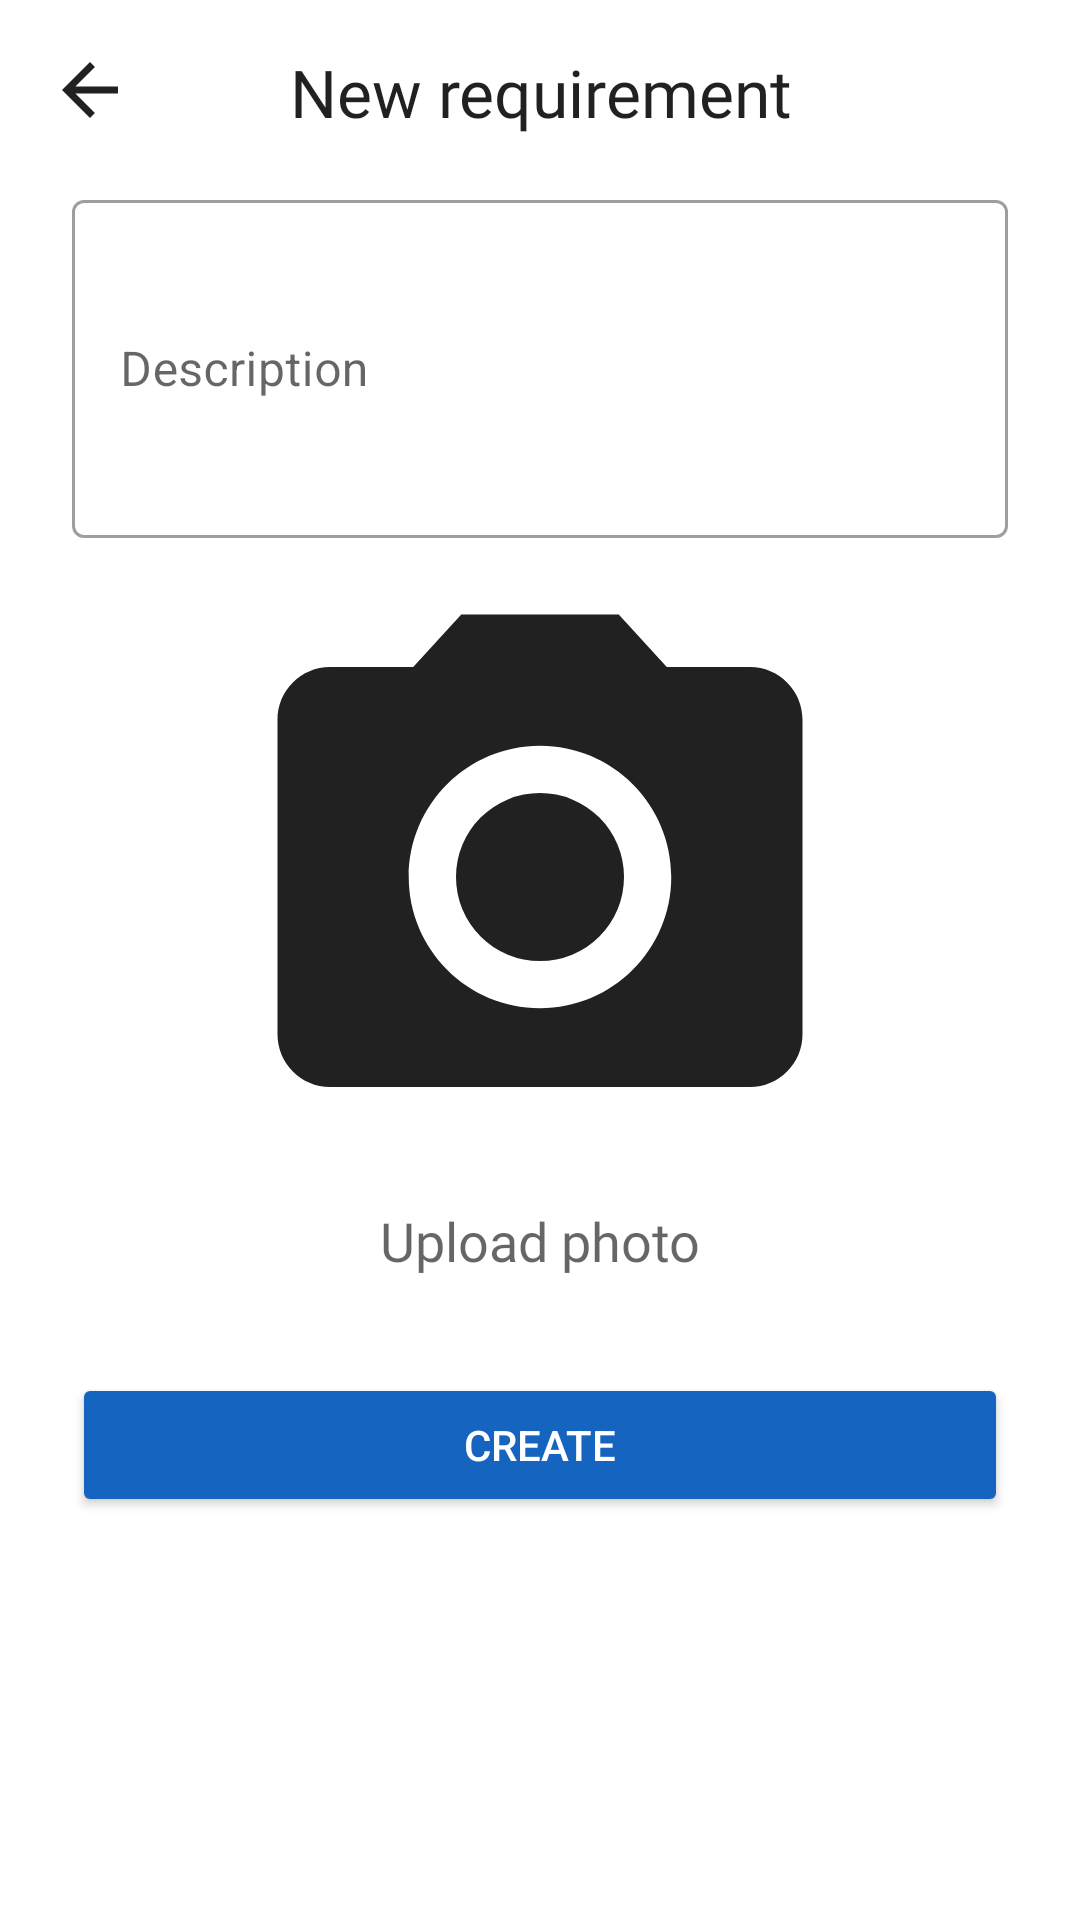

Icon bounding boxes for this 1080px×1920px phone screenshot, format (x1, y1, x2, y2):
arrow back: (62, 62, 118, 118)
